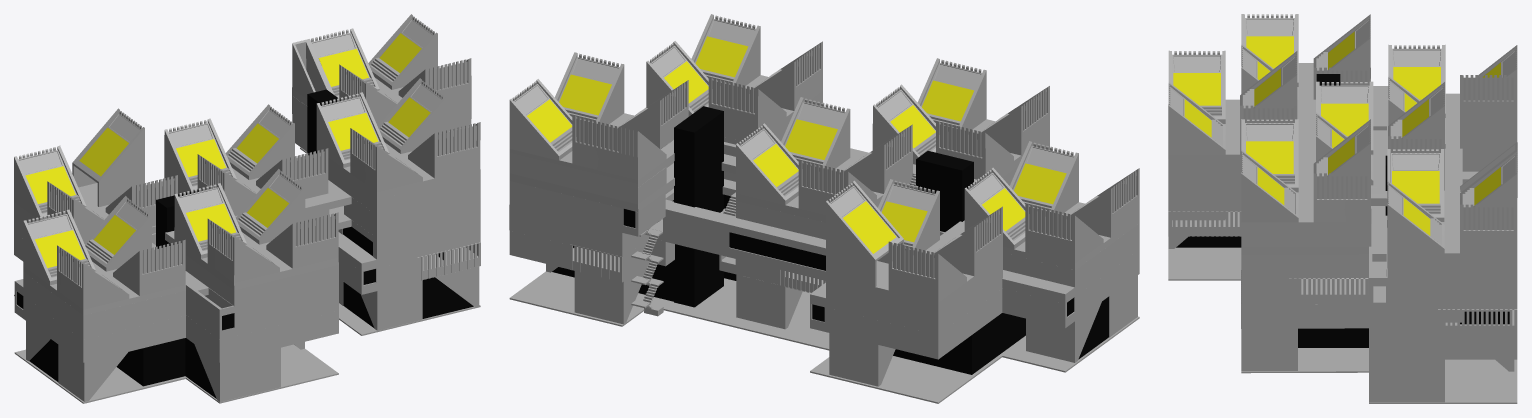
File: edificio.glb
The picture shows the model from 3 angles, left to right: view 1: azimuth 30°, elevation 25°; view 2: azimuth 150°, elevation 25°; view 3: azimuth 270°, elevation 25°; orthographic projection. The views are drawn at different scales.
Visible parts, largest first — view 1: piso_0_5, piso_0_4, piso_0_6, piso_0_1, piso_0_3, piso_0_2, lugar_de_duelo; view 2: piso_0_1, piso_0_4, piso_0_5, piso_0_6, piso_0_3, piso_0_2, lugar_de_duelo; view 3: piso_0_5, piso_0_6, piso_0_4, piso_0_1, piso_0_3, piso_0_2, lugar_de_duelo.
Boxes of the visible parts, x1,y1,x2,y2 form: piso_0_5: [164, 95, 480, 290]; piso_0_4: [14, 119, 480, 315]; piso_0_6: [292, 14, 480, 199]; piso_0_1: [14, 89, 480, 403]; piso_0_3: [14, 147, 480, 339]; piso_0_2: [14, 232, 480, 362]; lugar_de_duelo: [72, 108, 144, 206]; piso_0_1: [509, 106, 1139, 403]; piso_0_4: [509, 141, 1139, 309]; piso_0_5: [509, 58, 1049, 222]; piso_0_6: [509, 14, 822, 187]; piso_0_3: [509, 194, 1139, 334]; piso_0_2: [509, 230, 1139, 359]; lugar_de_duelo: [825, 180, 903, 286]; piso_0_5: [1168, 50, 1517, 285]; piso_0_6: [1241, 119, 1517, 260]; piso_0_4: [1168, 14, 1517, 309]; piso_0_1: [1168, 74, 1517, 403]; piso_0_3: [1168, 79, 1517, 335]; piso_0_2: [1168, 211, 1517, 359]; lugar_de_duelo: [1460, 75, 1517, 148].
Size of the model in its own units: 90.36 by 35.42 by 55.64.
1 material, 1 textured.
